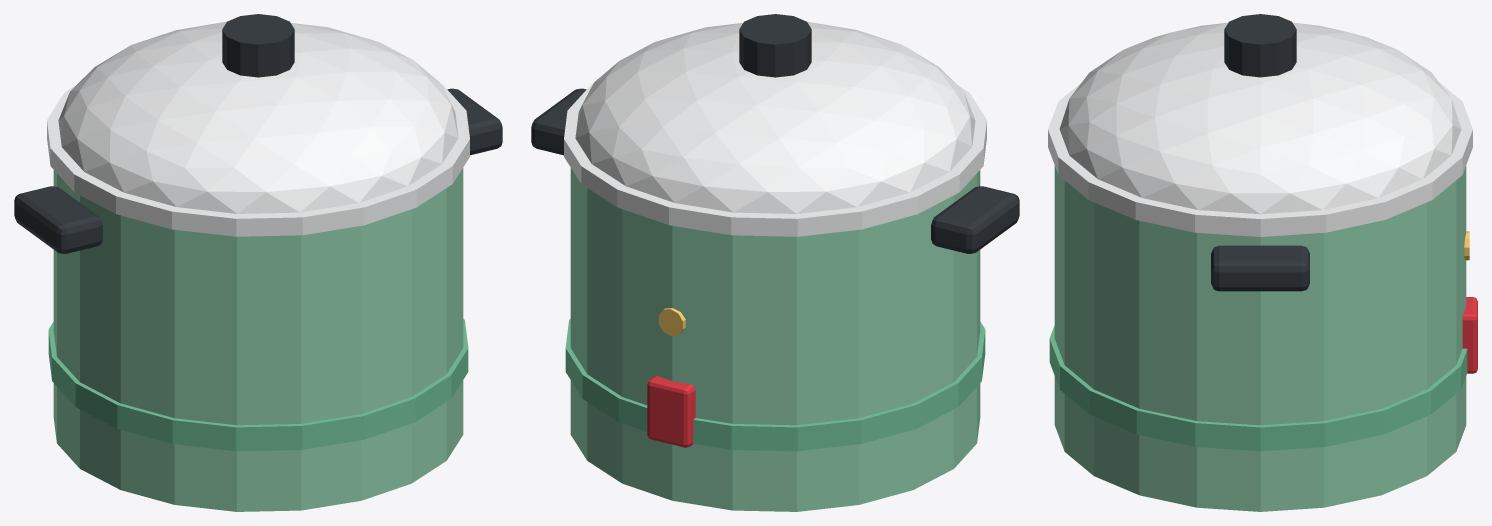
The model's file is hm_electric_pot.glb.
3 views of the same model, side by side, from view 1: azimuth 30°, elevation 25°; view 2: azimuth 150°, elevation 25°; view 3: azimuth 270°, elevation 25° (orthographic).
Visible parts, largest first — view 1: Cylinder, Icosphere, Cylinder.001, Cylinder.002, Cube, Cylinder.003, Cube.001; view 2: Cylinder, Icosphere, Cylinder.002, Cylinder.001, Cube, Cylinder.003, Cube.002, Cube.001, Cylinder.004; view 3: Cylinder, Icosphere, Cylinder.002, Cylinder.001, Cube.001, Cylinder.003, Cube.002.
Part boxes in pixels (x1,y1,x2,y2): Cylinder: (53,168,463,511); Icosphere: (58,21,458,213); Cylinder.001: (48,319,468,451); Cylinder.002: (47,84,469,236); Cube: (14,186,102,253); Cylinder.003: (222,14,294,77); Cube.001: (447,88,502,155); Cylinder: (570,168,980,511); Icosphere: (575,21,975,213); Cylinder.002: (564,84,986,236); Cylinder.001: (565,319,985,451); Cube: (931,186,1019,253); Cylinder.003: (739,14,811,77); Cube.002: (647,376,695,447); Cube.001: (531,88,586,155); Cylinder.004: (658,308,685,335); Cylinder: (1054,165,1466,511); Icosphere: (1059,22,1461,214); Cylinder.002: (1048,82,1472,236); Cylinder.001: (1049,325,1467,451); Cube.001: (1211,245,1309,291); Cylinder.003: (1224,14,1296,77); Cube.002: (1462,297,1477,373).
Bounding box in the file's own units: 31.2 × 26.5 × 26.1.
